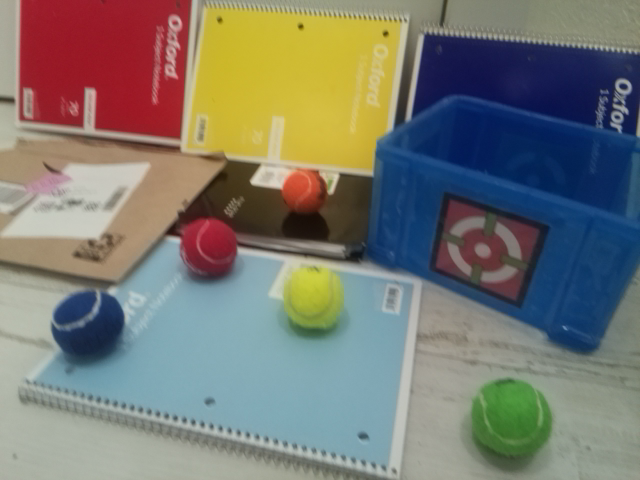blue-ball: (49, 289, 125, 358)
drop-bin: (429, 191, 551, 308)
green-ball: (470, 376, 554, 461)
orange-ball: (281, 167, 327, 216)
red-ball: (178, 215, 237, 279)
yellow-ball: (279, 263, 344, 330)
